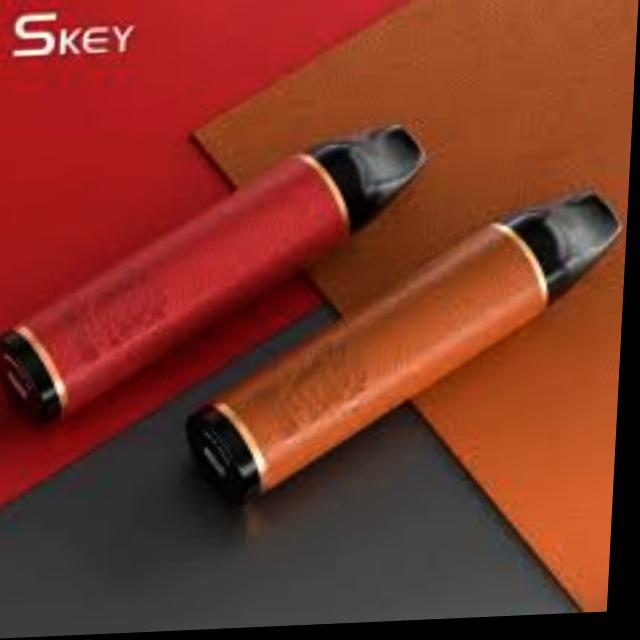vape: (193, 188, 631, 518), (0, 120, 435, 431)
